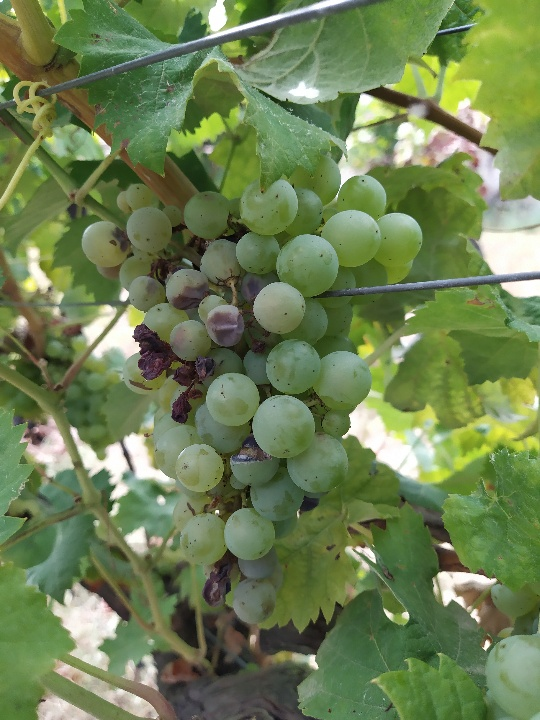grape: (79, 153, 426, 627)
